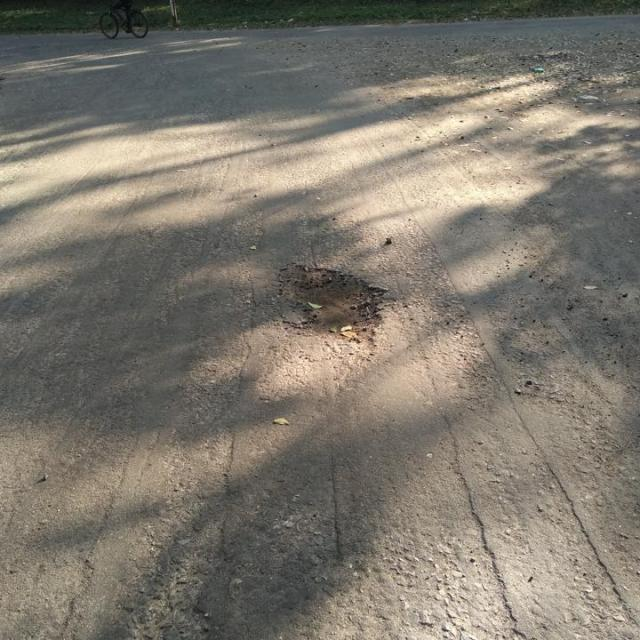Pothole: (274, 261, 397, 353)
